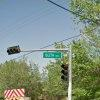Traffic light: (5, 42, 27, 56)
